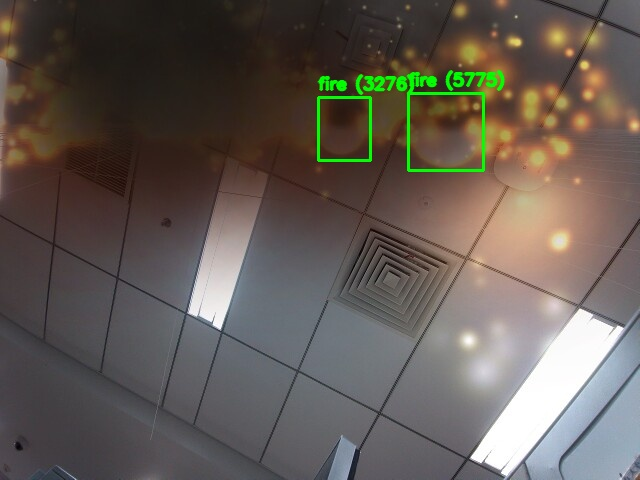fire: (408, 93, 483, 170), (318, 97, 370, 160)
